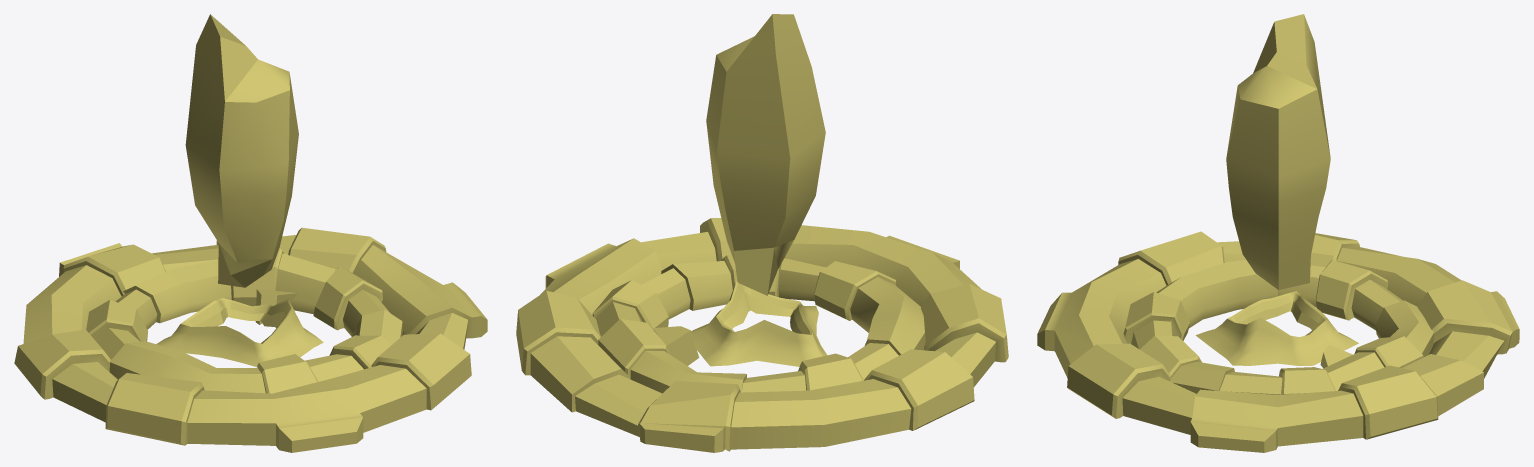
Rendered from Cristal_UVs.fbx.
3 renders of one model, left to right at view 1: azimuth 30°, elevation 25°; view 2: azimuth 150°, elevation 25°; view 3: azimuth 270°, elevation 25°, orthographic. The views are drawn at different scales.
Visible parts, largest first — view 1: pTorus4, pCylinder12, pTorus3, pCylinder11, pCube12; view 2: pTorus4, pCylinder12, pTorus3, pCylinder11, pCube12; view 3: pTorus4, pCylinder12, pTorus3, pCylinder11.
Boxes of the visible parts, x1,y1,x2,y2 form: pTorus4: (14,227,487,452); pCylinder12: (185,14,298,287); pTorus3: (86,248,402,393); pCylinder11: (156,298,323,367); pCube12: (255,289,297,324); pTorus4: (516,218,1008,452); pCylinder12: (706,14,825,295); pTorus3: (592,254,925,393); pCylinder11: (691,281,826,366); pCube12: (653,326,699,365); pTorus4: (1037,231,1519,452); pCylinder12: (1226,14,1330,289); pTorus3: (1123,260,1434,394); pCylinder11: (1195,291,1358,365).
Bounding box in the file's own units: 10.85 × 8.49 × 11.11.
